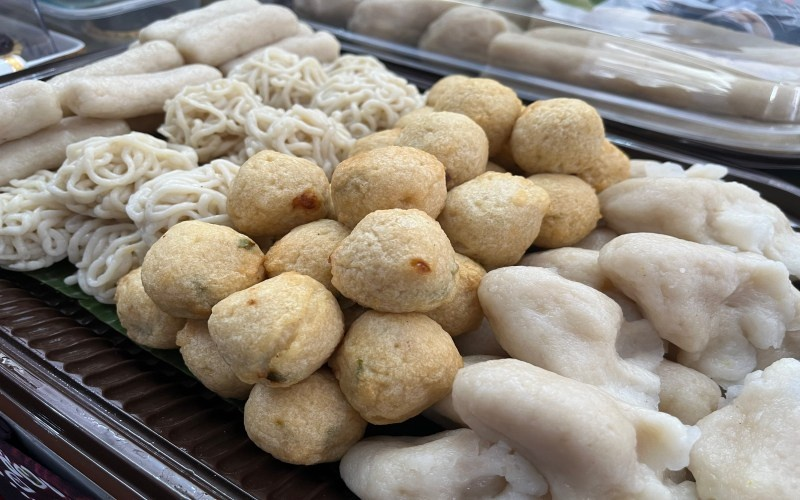pempek: (14, 68, 789, 478)
